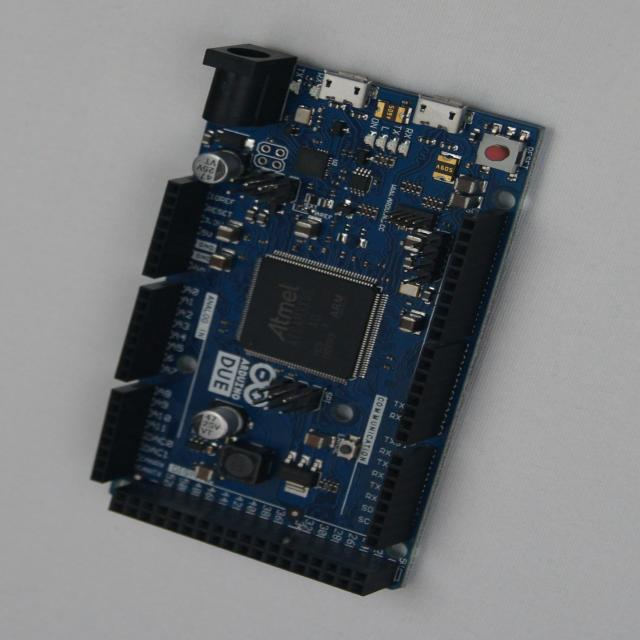Arduino-Due: (92, 46, 543, 596)
